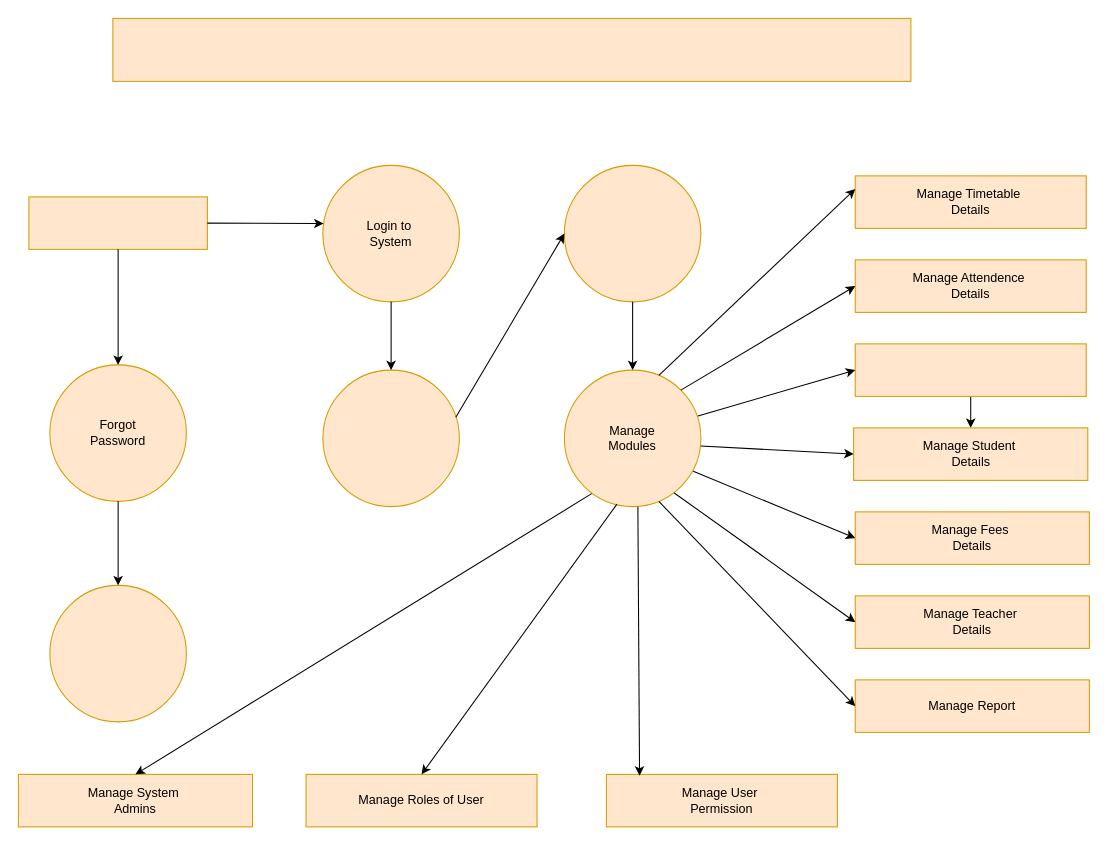
Image size: 1108x845. Some labels were removed from this diagram. Here are the shapes that lost their labels. From the top down, the centre of each, then its label:
At (x=511, y=49): "Student Information System".
At (x=117, y=222): "Admin".
At (x=632, y=233): "Check Roles of Access".
At (x=970, y=369): "Manage Class Details".
At (x=390, y=438): "Check Credentials".
At (x=117, y=653): "Send Email to User".
